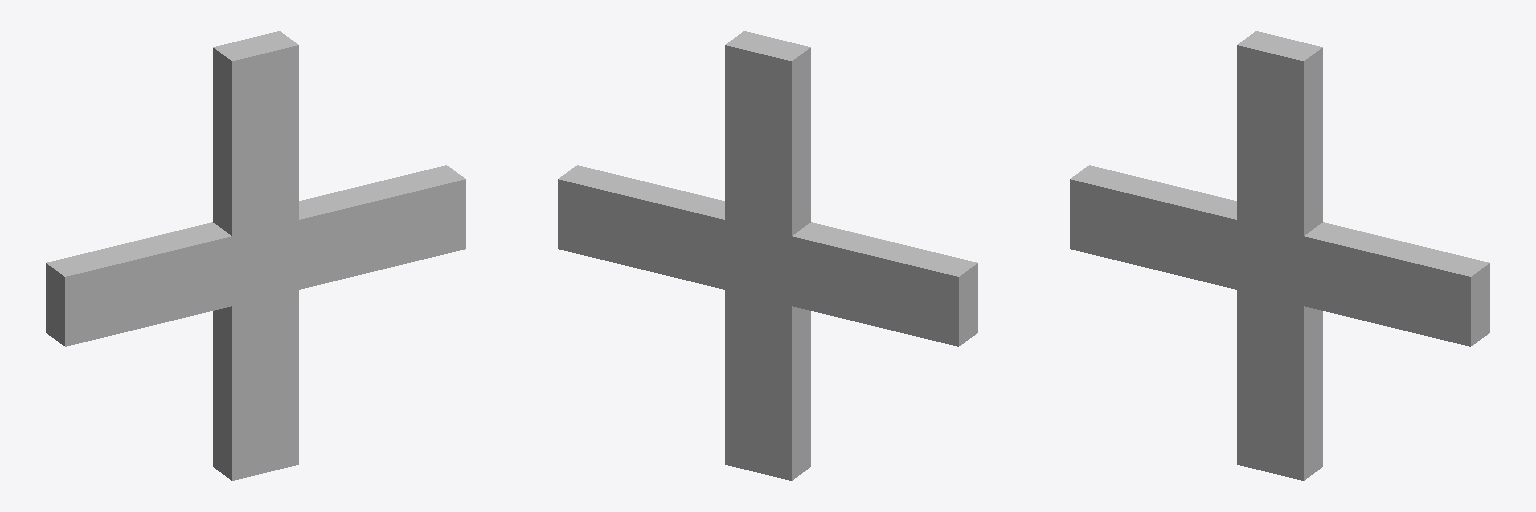
Rendered from cursor_crosshair.obj.
3 views of the same model, side by side, from view 1: azimuth 30°, elevation 25°; view 2: azimuth 150°, elevation 25°; view 3: azimuth 330°, elevation 25° (orthographic).
Visible parts, largest first — view 1: textureBakeSet4 polySurface1; view 2: textureBakeSet4 polySurface1; view 3: textureBakeSet4 polySurface1.
Part boxes in pixels (x1,y1,x2,y2): textureBakeSet4 polySurface1: (46, 31, 465, 480); textureBakeSet4 polySurface1: (558, 31, 977, 480); textureBakeSet4 polySurface1: (1070, 31, 1489, 480).
Bounding box in the file's own units: 0.72 × 0.72 × 0.06.